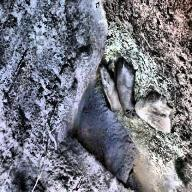boar: (117, 49, 147, 120), (98, 60, 118, 116)
